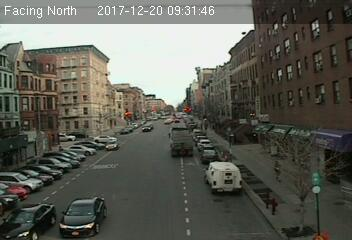car: (58, 194, 110, 239), (201, 150, 220, 161), (105, 140, 119, 151)
truck: (204, 161, 242, 195), (169, 126, 193, 157)
